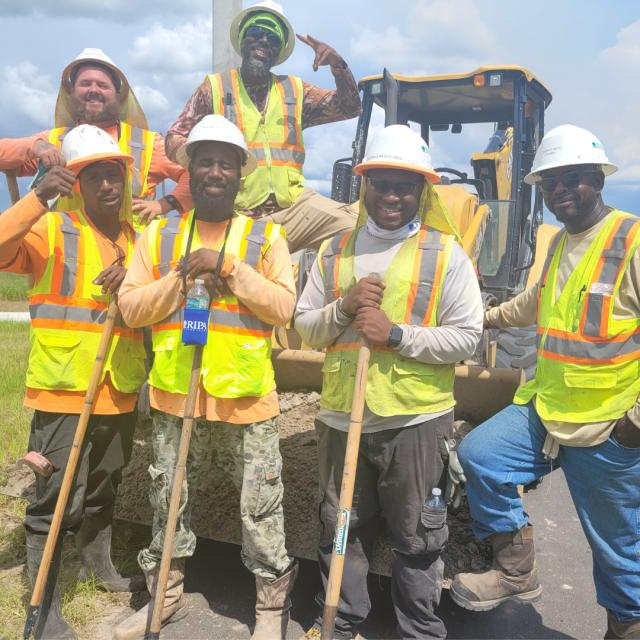Boots: (103, 545, 302, 640), (16, 519, 145, 640), (448, 522, 550, 608)
Hard Hat: (520, 120, 624, 190), (350, 118, 444, 192), (48, 38, 142, 112), (176, 110, 263, 174), (49, 117, 140, 170), (231, 0, 302, 62)
Reflective Vest: (328, 207, 463, 434), (519, 211, 640, 455), (24, 208, 155, 414), (190, 202, 283, 408), (204, 64, 312, 206), (41, 116, 164, 222), (137, 210, 200, 416)
